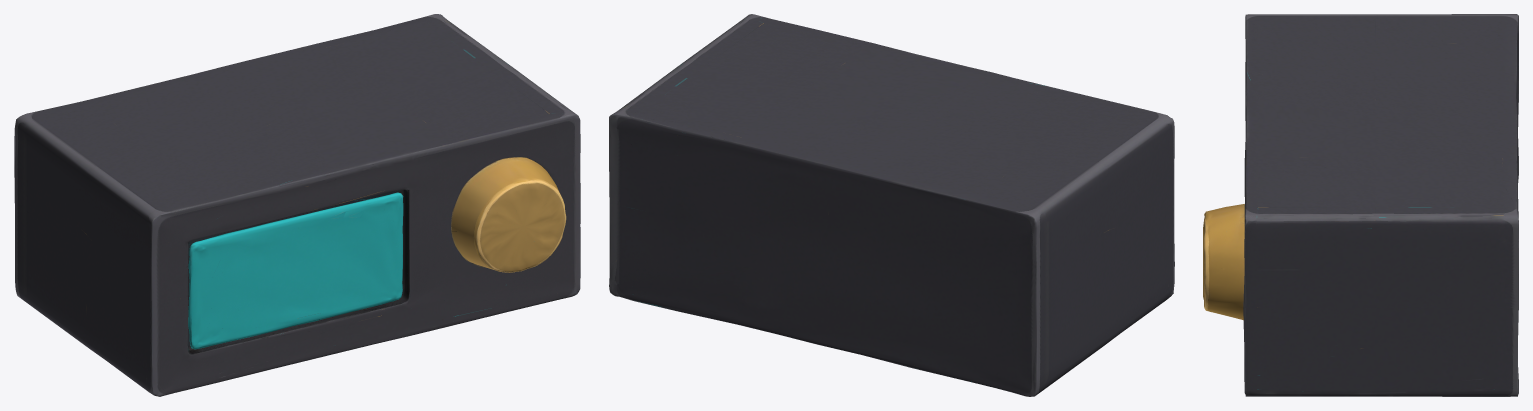
The model's file is rescueRadio.glb.
3 renders of one model, left to right at view 1: azimuth 30°, elevation 25°; view 2: azimuth 150°, elevation 25°; view 3: azimuth 270°, elevation 25°, orthographic.
Bounding box in the file's own units: 1 × 0.4111 × 0.6445.
Materials: 1 (1 with a texture image).
